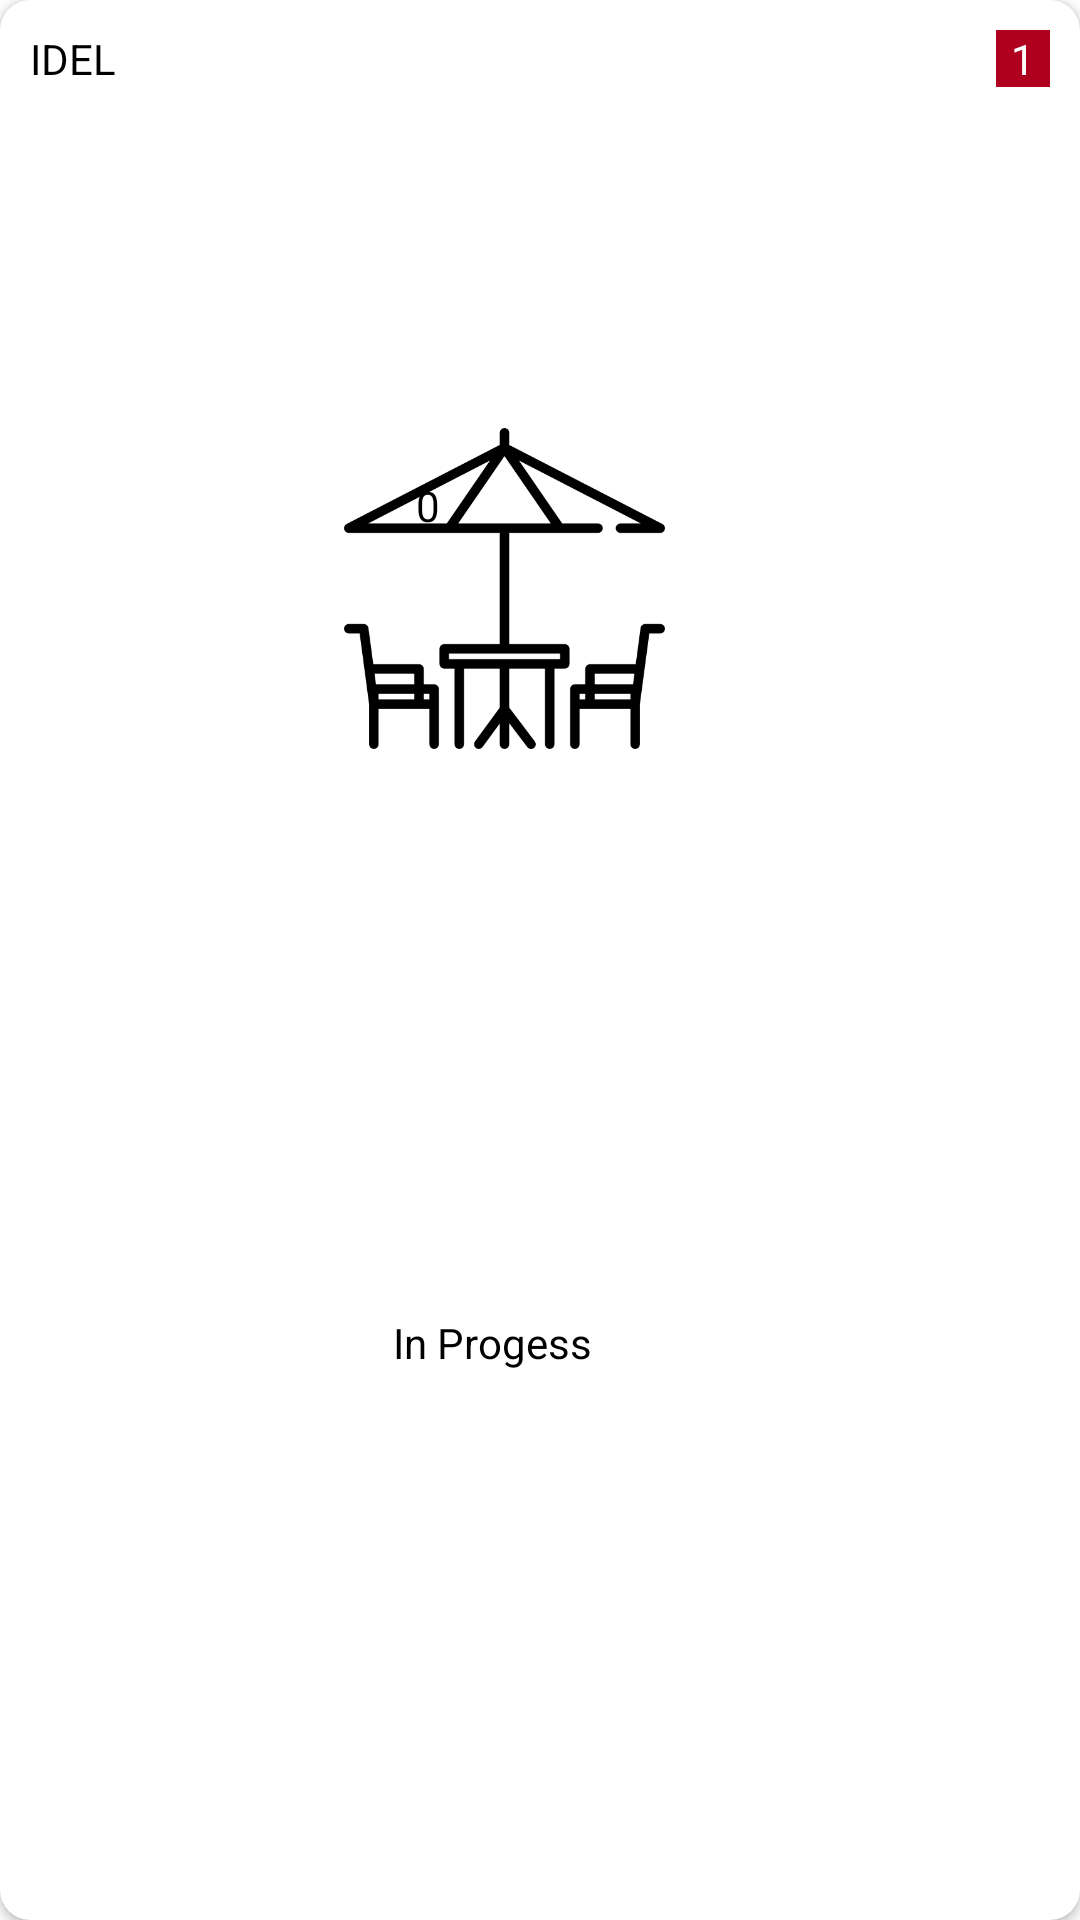

Where to tap for icons on this 1080 × 1920 app screen, as (x=x, y=y):
empty table: (x=504, y=588)
